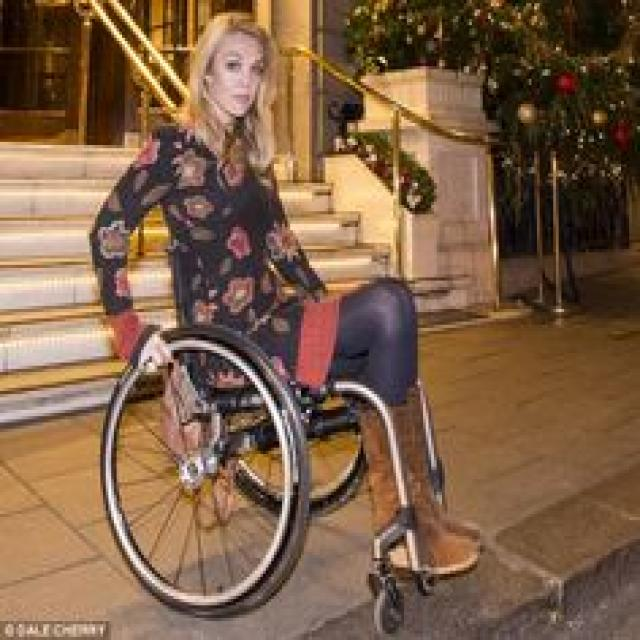wheelchairs: (78, 186, 490, 640)
